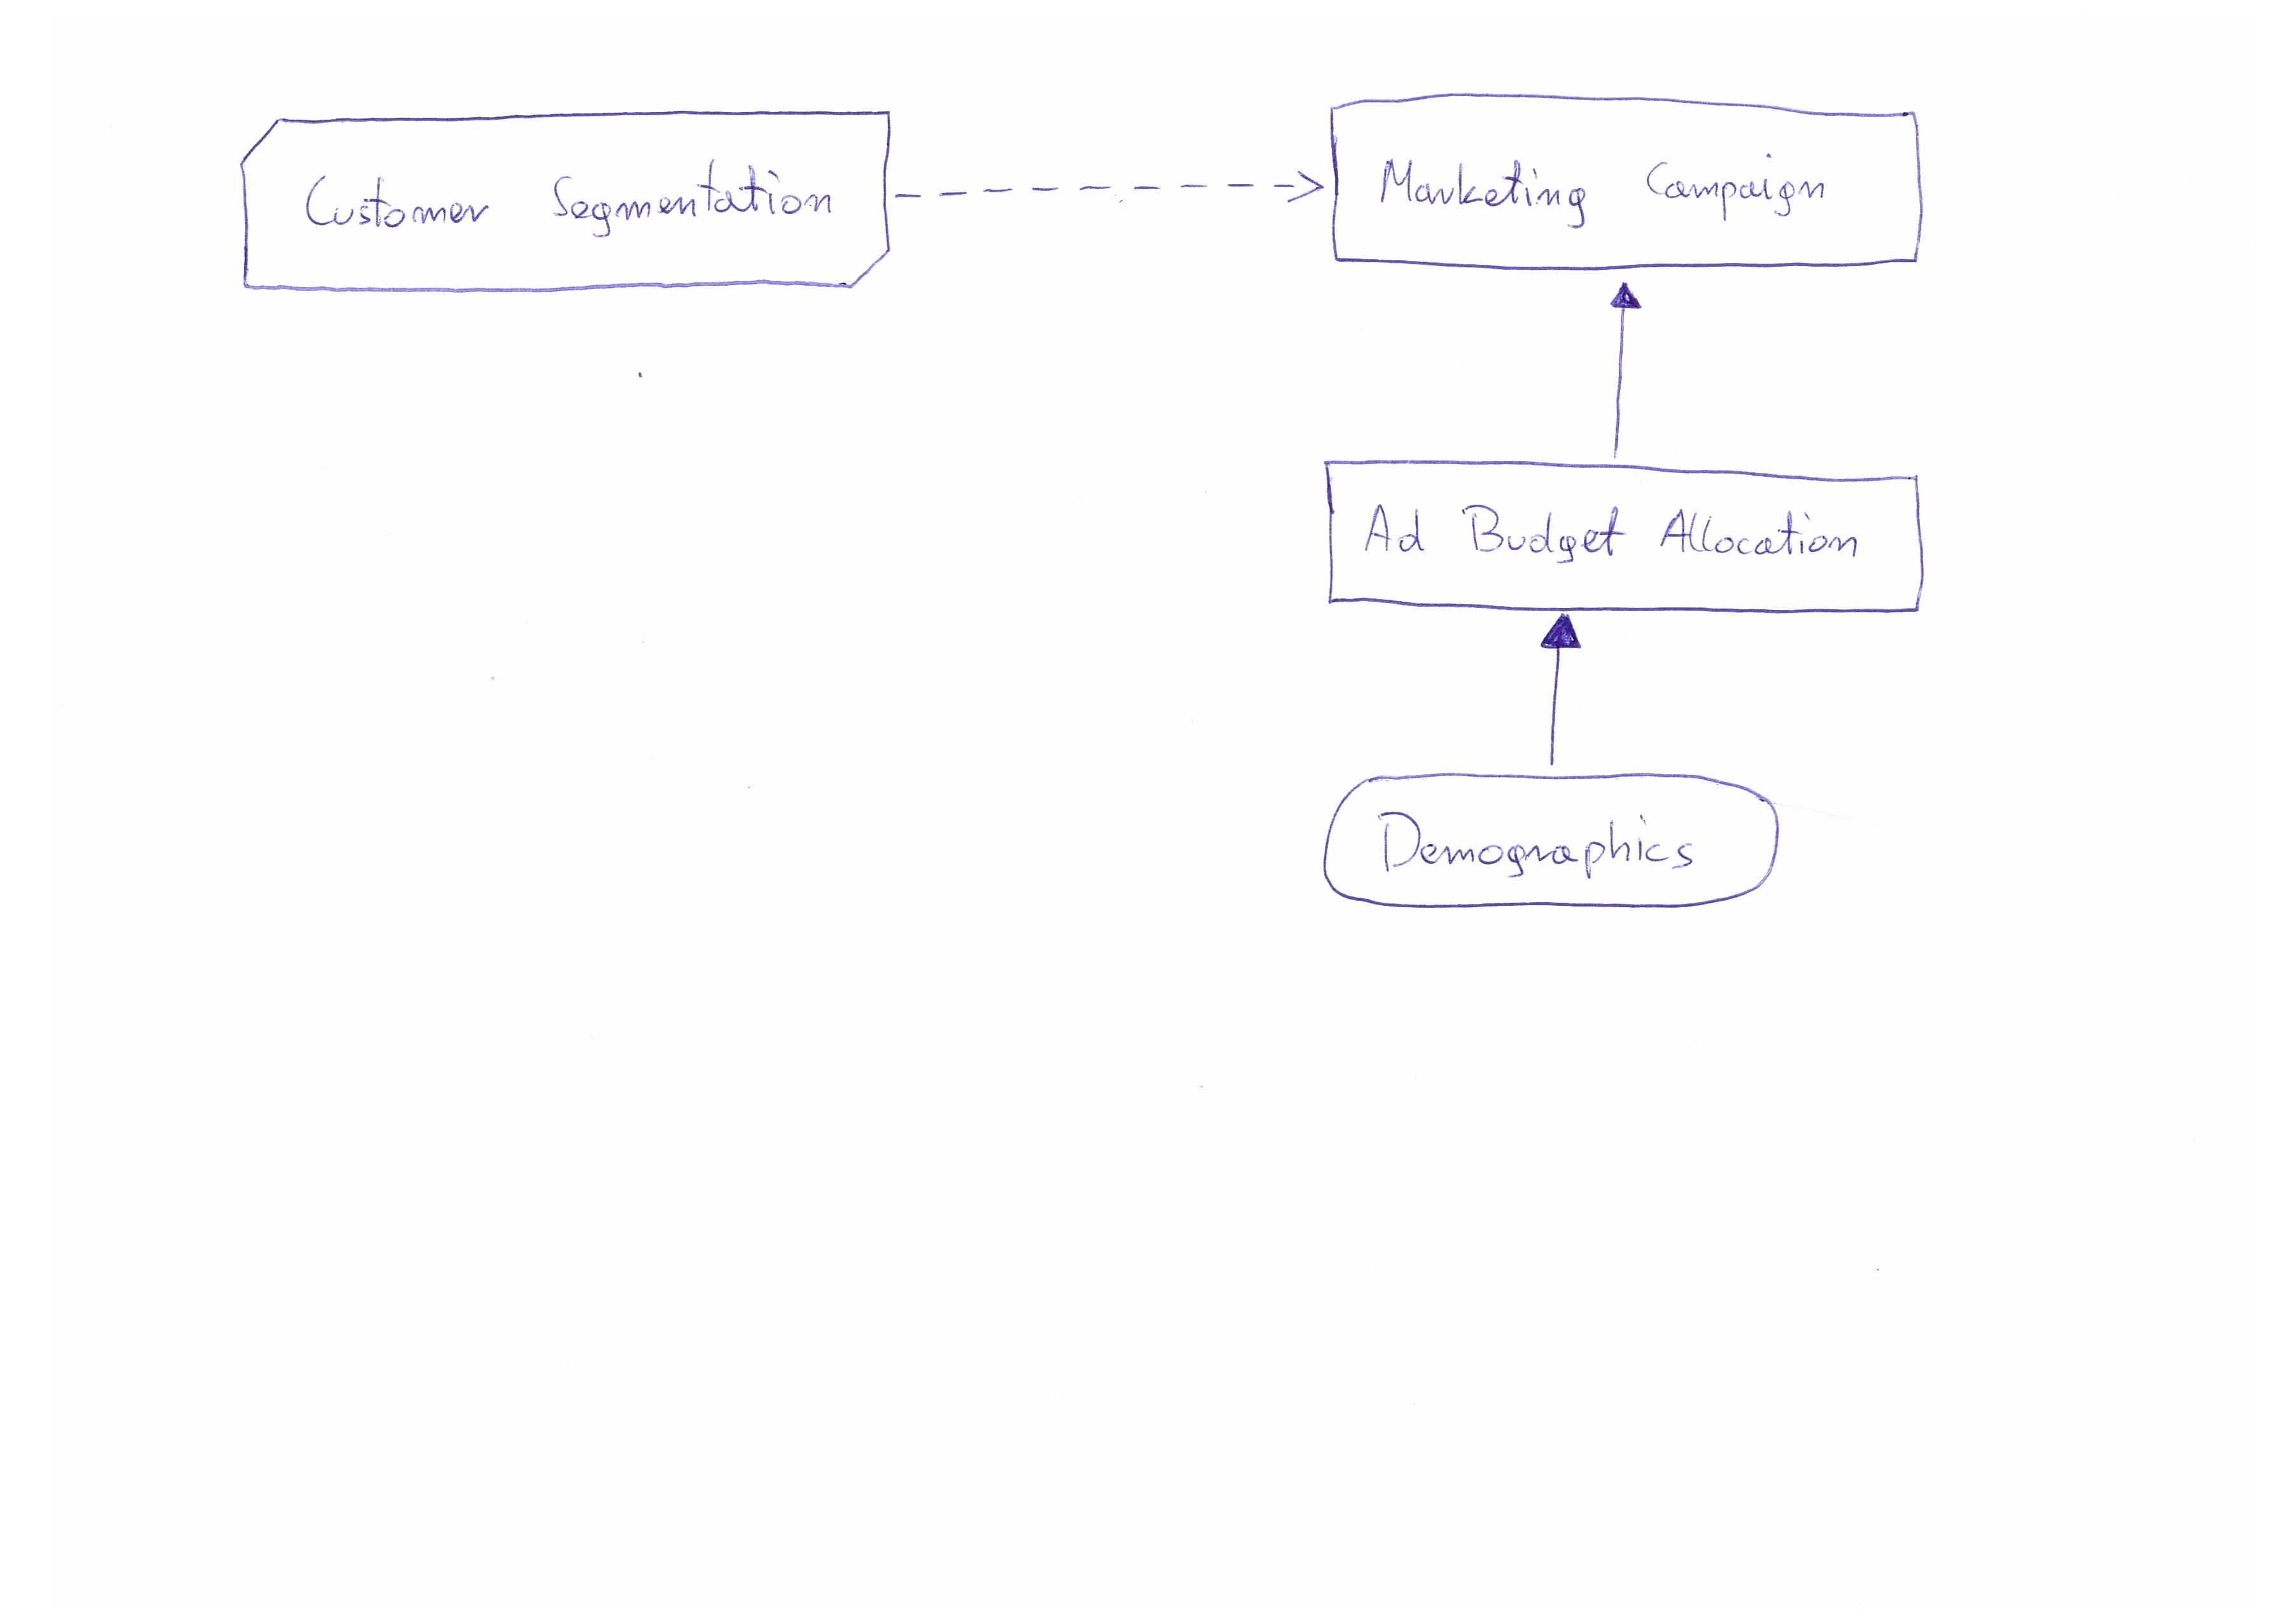arrow_information_requirement: (1520, 612, 1595, 770), (1595, 274, 1655, 462)
arrow_knowledge_requirement: (894, 158, 1325, 223)
node_decision: (1325, 90, 1936, 278), (1318, 448, 1935, 622)
node_input_data: (1320, 770, 1801, 921)
node_knowledge_model: (232, 104, 901, 306)
text: (293, 151, 857, 253), (1369, 139, 1852, 236), (1351, 490, 1882, 578), (1364, 798, 1717, 891)
